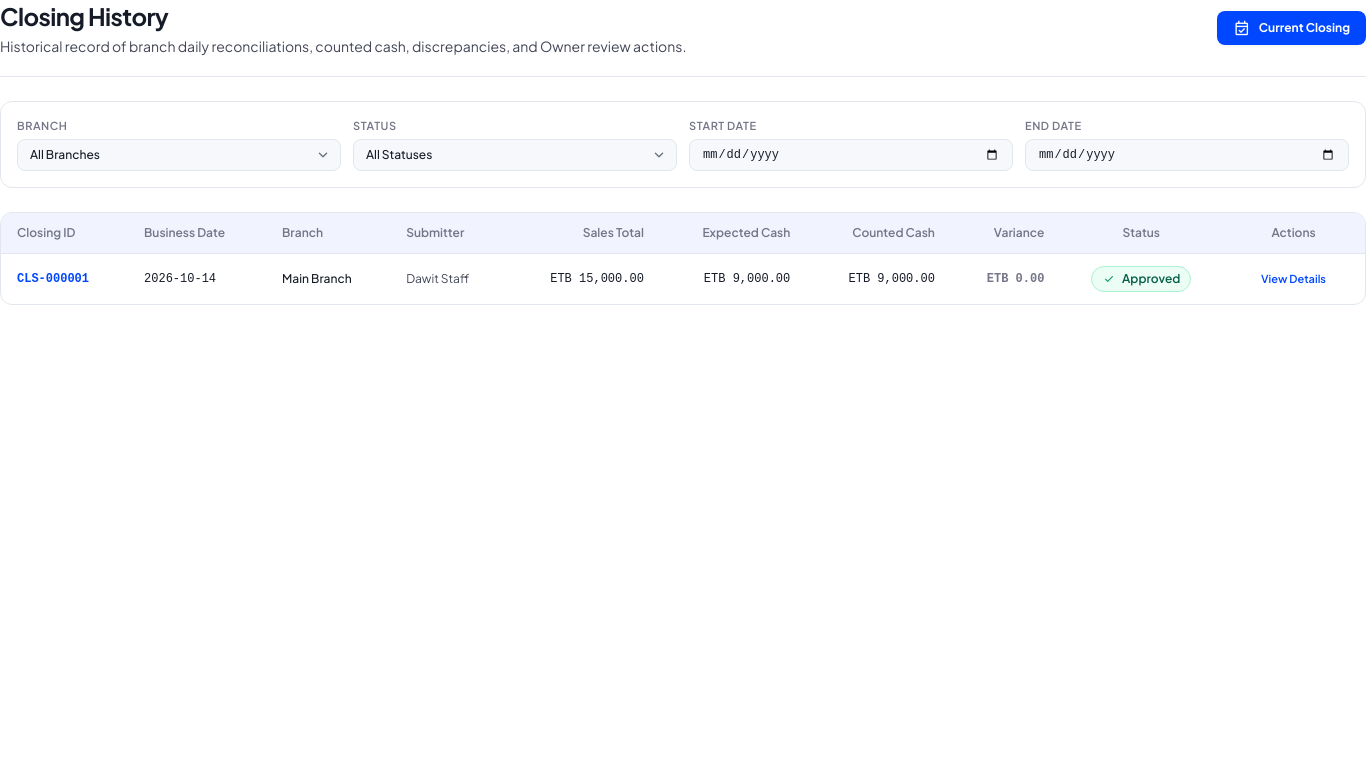
Daily Closing Frontend Components (Slices 9.1 – 9.4) › ClosingHistoryPage (Slice 9.4) › renders historical closing records with filters and opens detail modal
Expected: the heading "Closing History" is shown, [0,1,168,31]
Expected: the text "CLS-000001" is shown, [1,253,128,304]
// Click "View Details" to open detail modal
Click the button "View Details" at coordinates (1294, 278), box [1251,268,1336,290]
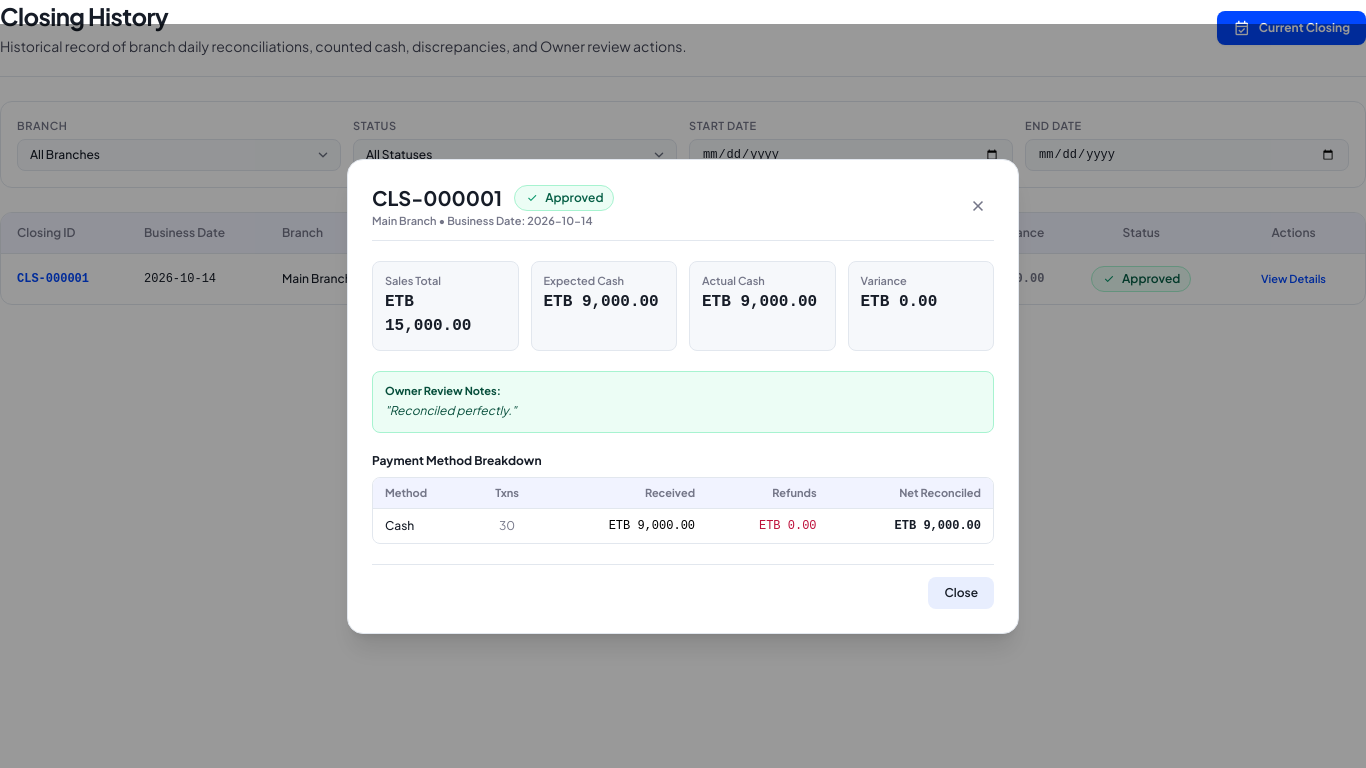
Expected: the dialog is shown
Expected: the text "\"Reconciled perfectly.\"" is shown, [385,402,516,418]
Expected: the button "Close" is shown, [928,576,994,608]
